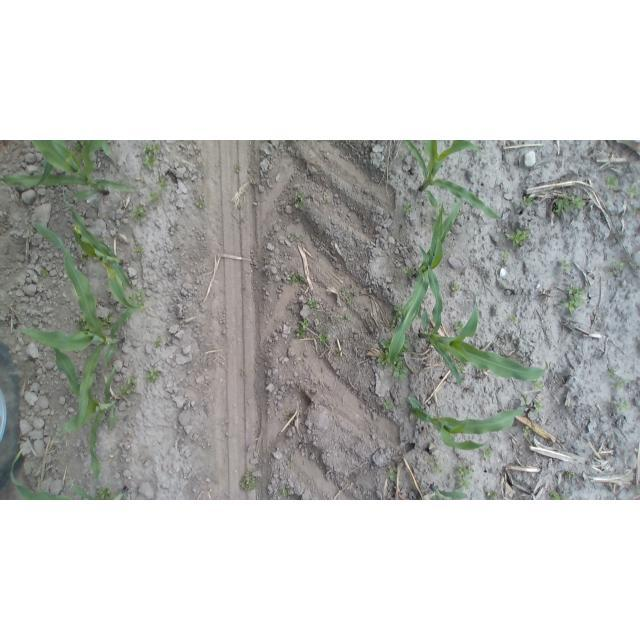Maize: (12, 219, 139, 430), (413, 278, 549, 388), (380, 198, 463, 374), (51, 341, 123, 485), (404, 386, 534, 456), (63, 197, 141, 313), (397, 140, 501, 226), (0, 141, 136, 200), (10, 445, 129, 500), (428, 481, 468, 499)
Weeds: (562, 284, 586, 315), (556, 191, 587, 213), (141, 141, 161, 171), (455, 463, 475, 490), (239, 468, 259, 492), (376, 338, 392, 366), (507, 229, 530, 248), (294, 317, 311, 340), (120, 375, 137, 397), (390, 304, 404, 330), (341, 286, 359, 306), (605, 259, 625, 277), (128, 290, 146, 308), (393, 357, 407, 380), (293, 189, 307, 211), (132, 203, 149, 221), (95, 485, 114, 500), (284, 408, 297, 429), (286, 273, 307, 286), (145, 367, 161, 383), (548, 489, 572, 499), (612, 399, 628, 414), (479, 445, 495, 460), (147, 191, 162, 205), (605, 175, 620, 189), (612, 379, 630, 390), (431, 459, 445, 473), (402, 202, 415, 217), (401, 335, 411, 354), (387, 466, 398, 483), (402, 265, 416, 278), (101, 313, 114, 327), (626, 184, 638, 199), (485, 489, 502, 499), (560, 260, 573, 273), (449, 281, 462, 294), (452, 319, 464, 333), (533, 379, 545, 392), (318, 332, 330, 344), (382, 399, 394, 411), (133, 245, 145, 257), (73, 141, 84, 154), (159, 178, 170, 191), (522, 197, 535, 208), (279, 487, 293, 497), (306, 299, 318, 310), (455, 361, 466, 373), (500, 250, 511, 262), (533, 400, 543, 413), (195, 198, 206, 209), (506, 313, 518, 323), (154, 338, 166, 348), (77, 319, 88, 329), (284, 457, 294, 468), (340, 312, 351, 322), (608, 366, 617, 378), (288, 233, 300, 242), (80, 252, 89, 263), (565, 471, 576, 480), (39, 270, 50, 279), (238, 368, 248, 377), (524, 427, 533, 437), (322, 194, 331, 204), (234, 164, 243, 174), (627, 261, 636, 270), (632, 207, 639, 216), (335, 349, 343, 356)
